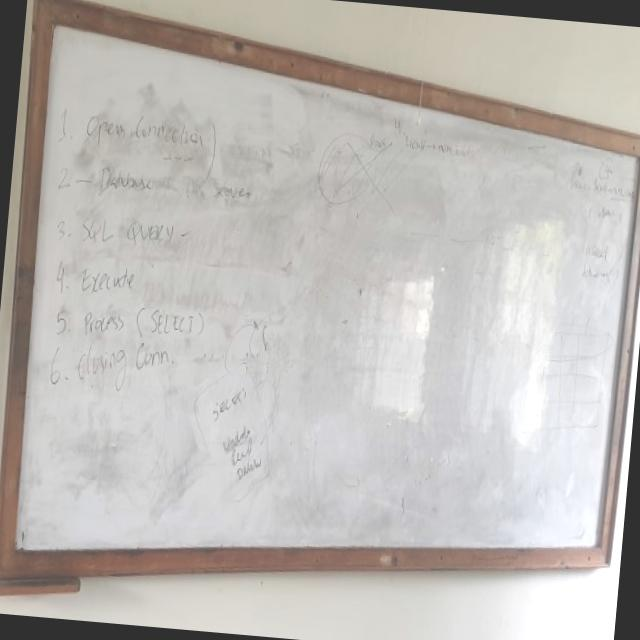White-board: (6, 3, 640, 565)
